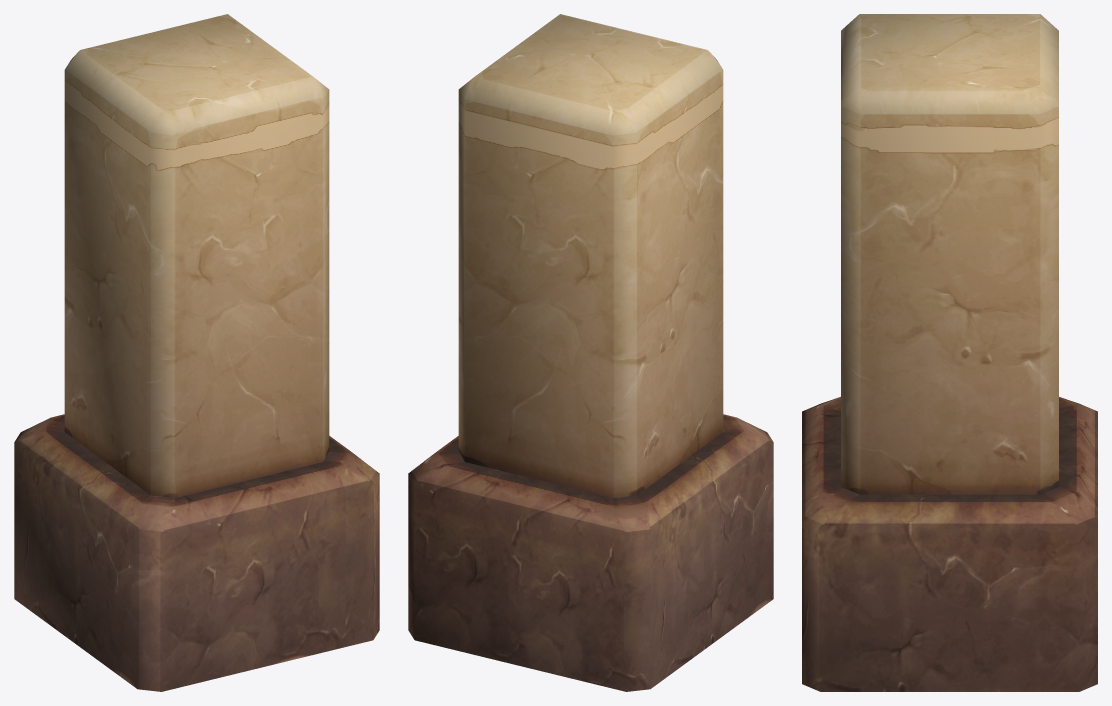
Rendered from DE_House_Mod_Part_31.fbx.
3 views of the same model, side by side, from view 1: azimuth 30°, elevation 25°; view 2: azimuth 150°, elevation 25°; view 3: azimuth 270°, elevation 25° (orthographic). The views are drawn at different scales.
Visible parts, largest first — view 1: DE_House_Mod_Part_31; view 2: DE_House_Mod_Part_31; view 3: DE_House_Mod_Part_31.
Boxes of the visible parts, bbox=[...] form: DE_House_Mod_Part_31: bbox=[14, 14, 379, 691]; DE_House_Mod_Part_31: bbox=[408, 14, 773, 691]; DE_House_Mod_Part_31: bbox=[802, 14, 1097, 691].
Size of the model in its own units: 1.91 by 4.14 by 1.92.
